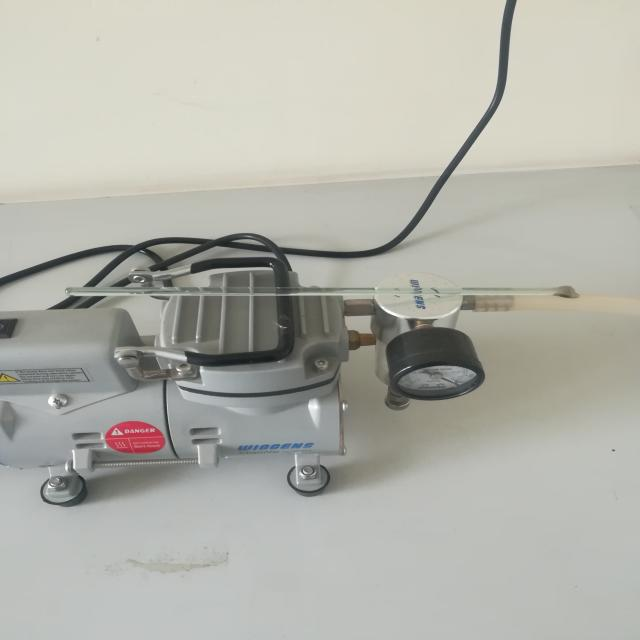Glass_Rod: (35, 260, 598, 328)
